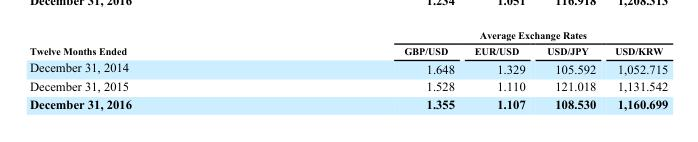table: (28, 28, 667, 110)
table column: (28, 28, 267, 110), (267, 28, 463, 110), (463, 28, 535, 110), (535, 28, 604, 110), (604, 28, 667, 110)
table column header: (28, 28, 667, 58)
table row: (28, 58, 667, 77), (28, 77, 667, 94), (28, 42, 667, 58), (28, 94, 667, 110), (28, 28, 667, 42)
table spanning cell: (28, 28, 267, 58), (267, 28, 667, 42)
